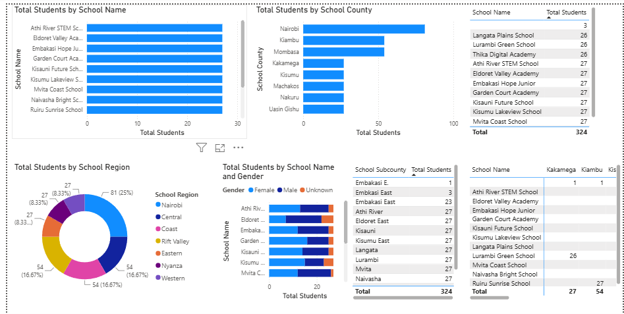

Layout of this report page (visuals, bound fields, positions):
{"tool":"powerbi","page":{"name":"School & Enrollment Overview","canvas":[1280,720],"ordinal":0},"visuals":[{"type":"clusteredBarChart","fields":{"Category":["DimSchool.School Name"],"Y":["_Measures.Total Students"]},"box":[10.1,0,488.8,278.8],"z":0},{"type":"clusteredBarChart","fields":{"Category":["DimLocation.School County"],"Y":["_Measures.Total Students"]},"box":[512.3,0,430,278.8],"z":1000},{"type":"donutChart","fields":{"Category":["DimLocation.School Region"],"Y":["_Measures.Total Students"]},"box":[10.1,327.6,409.9,292.3],"z":2000},{"type":"tableEx","fields":{"Values":["DimSchool.School Name","_Measures.Total Students"]},"box":[955.8,0,272.1,278.8],"z":3000},{"type":"barChart","fields":{"Category":["DimSchool.School Name"],"Y":["_Measures.Total Students"],"Series":["DimStudent.Gender"]},"box":[441.8,327.6,270.4,292.3],"z":4000},{"type":"tableEx","fields":{"Values":["DimLocation.School Subcounty","_Measures.Total Students"]},"box":[712,328,230,292],"z":5000},{"type":"pivotTable","fields":{"Rows":["DimSchool.School Name"],"Columns":["DimLocation.School County"],"Values":["_Measures.Total Students"]},"box":[955.8,327.6,324.2,292.3],"z":6000}]}

Visuals, with their boxes on the page's 1280x720 design canvas (x1, y1, x2, y2). These are canvas units, not pixel positions in the 624x314 screenshot, which may show the page scaled, cropped or inside an application window:
clusteredBarChart - DimSchool.School Name x _Measures.Total Students: l=10, t=0, r=499, b=279
clusteredBarChart - DimLocation.School County x _Measures.Total Students: l=512, t=0, r=942, b=279
donutChart - DimLocation.School Region x _Measures.Total Students: l=10, t=328, r=420, b=620
tableEx - DimSchool.School Name x _Measures.Total Students: l=956, t=0, r=1228, b=279
barChart - DimSchool.School Name x _Measures.Total Students: l=442, t=328, r=712, b=620
tableEx - DimLocation.School Subcounty x _Measures.Total Students: l=712, t=328, r=942, b=620
pivotTable - DimSchool.School Name x DimLocation.School County: l=956, t=328, r=1280, b=620
